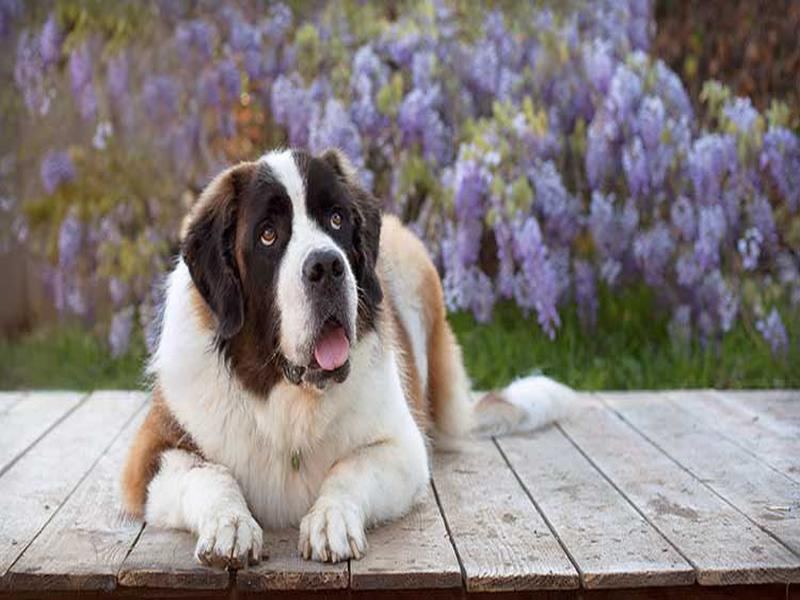dog_down: (120, 147, 580, 576)
